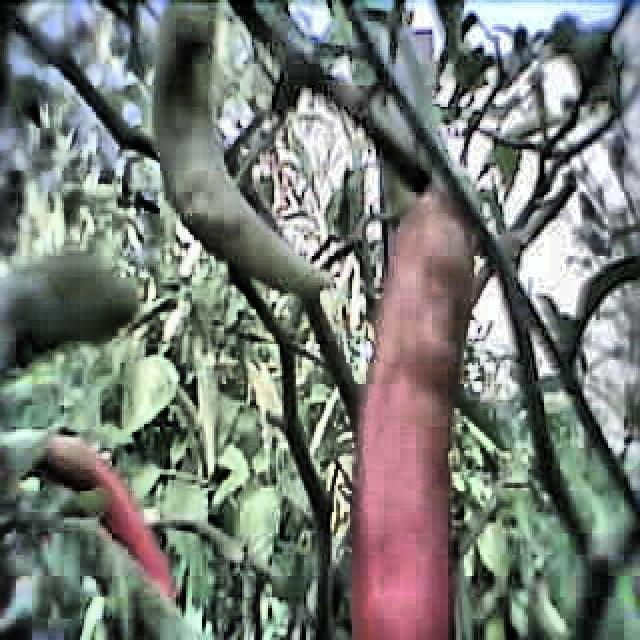Cabai: (348, 190, 476, 640), (143, 0, 326, 303), (35, 425, 172, 590)
